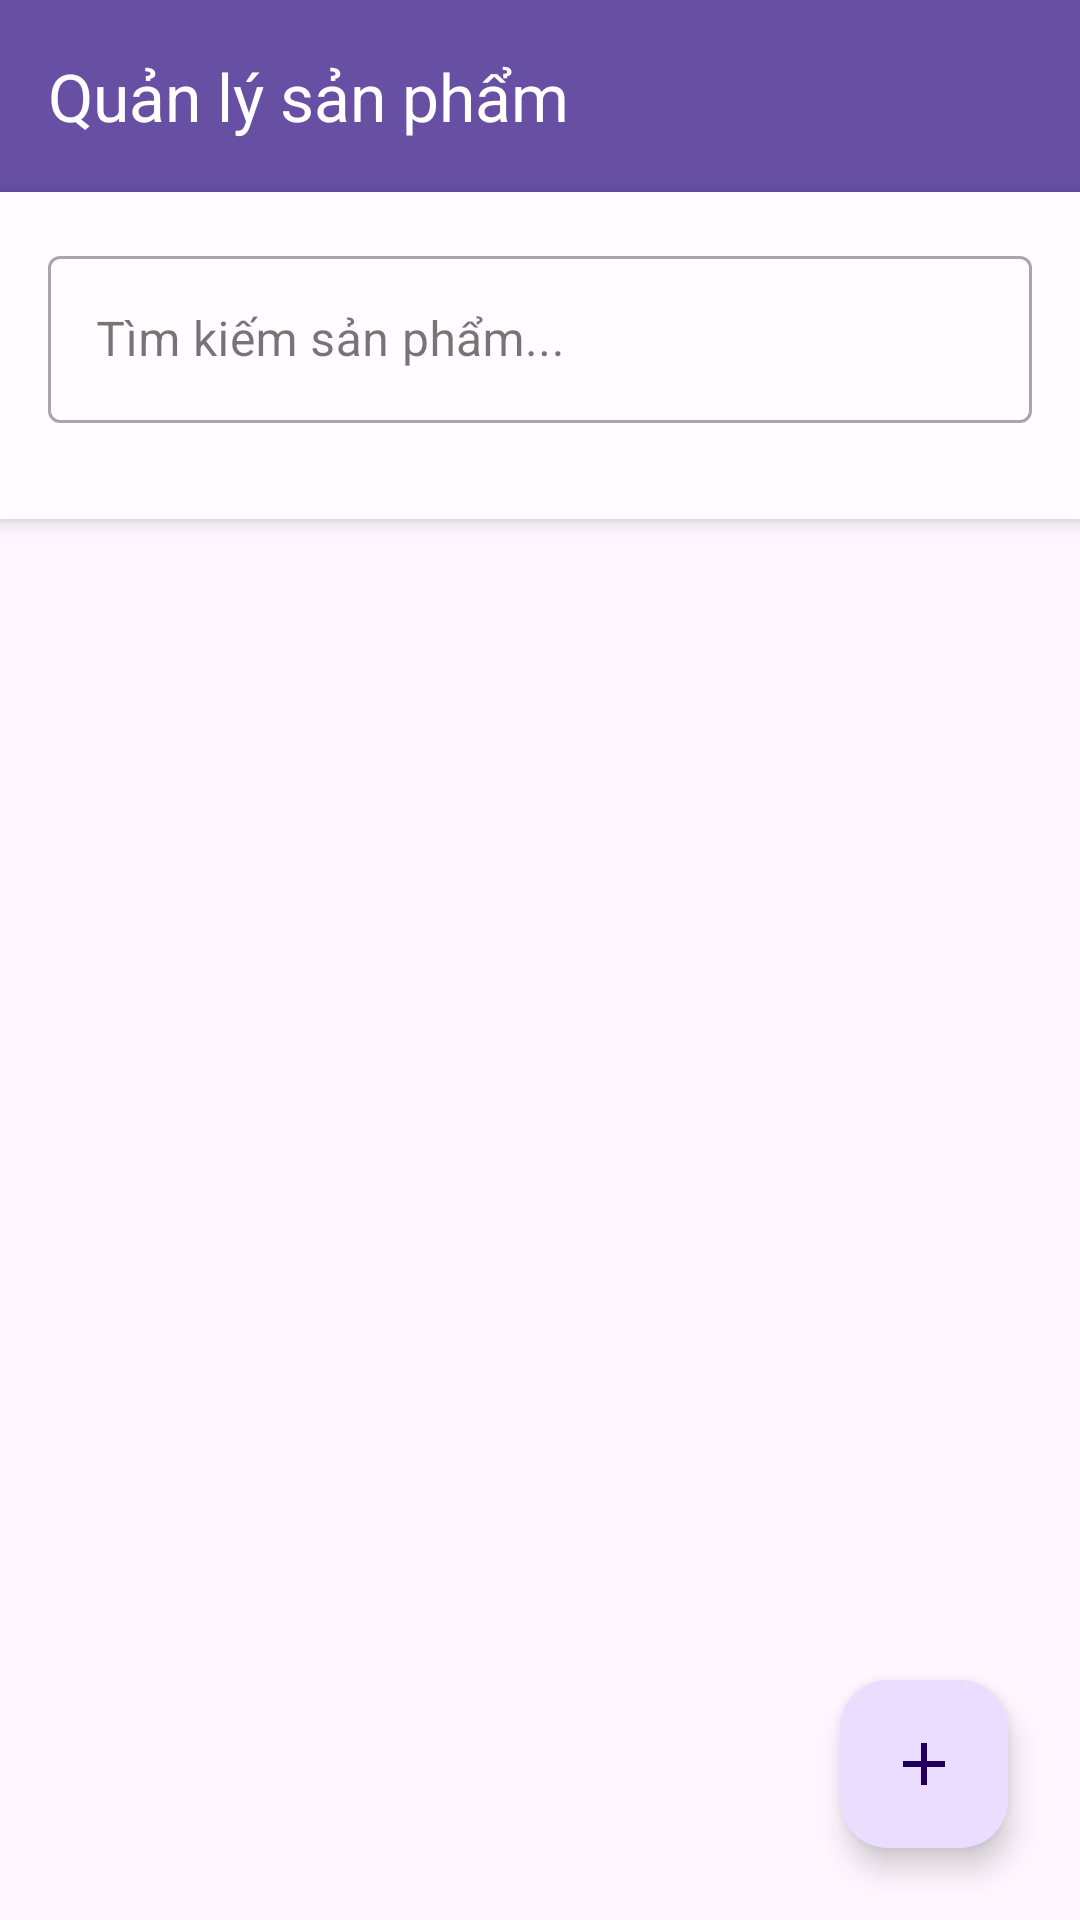

Where icons sit on this 1080 × 1920 app screen, as (x1, y1, x2, y2):
Thêm sản phẩm: (840, 1680, 1008, 1848)
